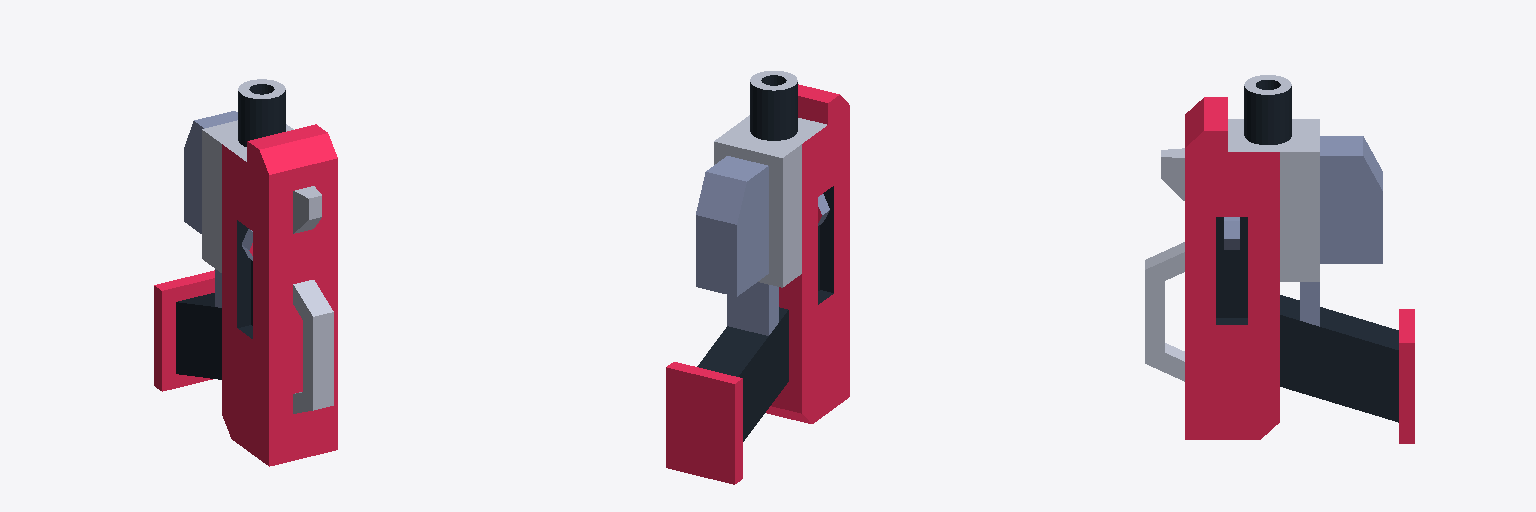
File: Magnum.obj
The picture shows the model from 3 angles: view 1: azimuth 30°, elevation 25°; view 2: azimuth 150°, elevation 25°; view 3: azimuth 270°, elevation 25°; orthographic projection.
Parts seen in each view (by area): view 1: blasterC; view 2: blasterC; view 3: blasterC.
Part boxes in pixels (x1,y1,x2,y2): blasterC: (154,79,337,466); blasterC: (666,71,849,484); blasterC: (1145,75,1414,443).
Size of the model in its own units: 1 by 4.75 by 3.4.